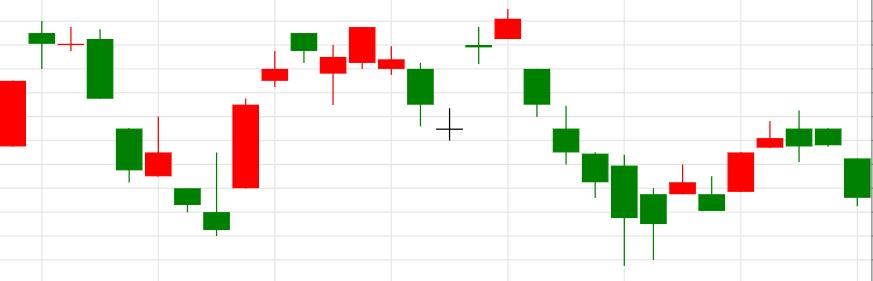hammer_rise: (494, 9, 666, 265)
